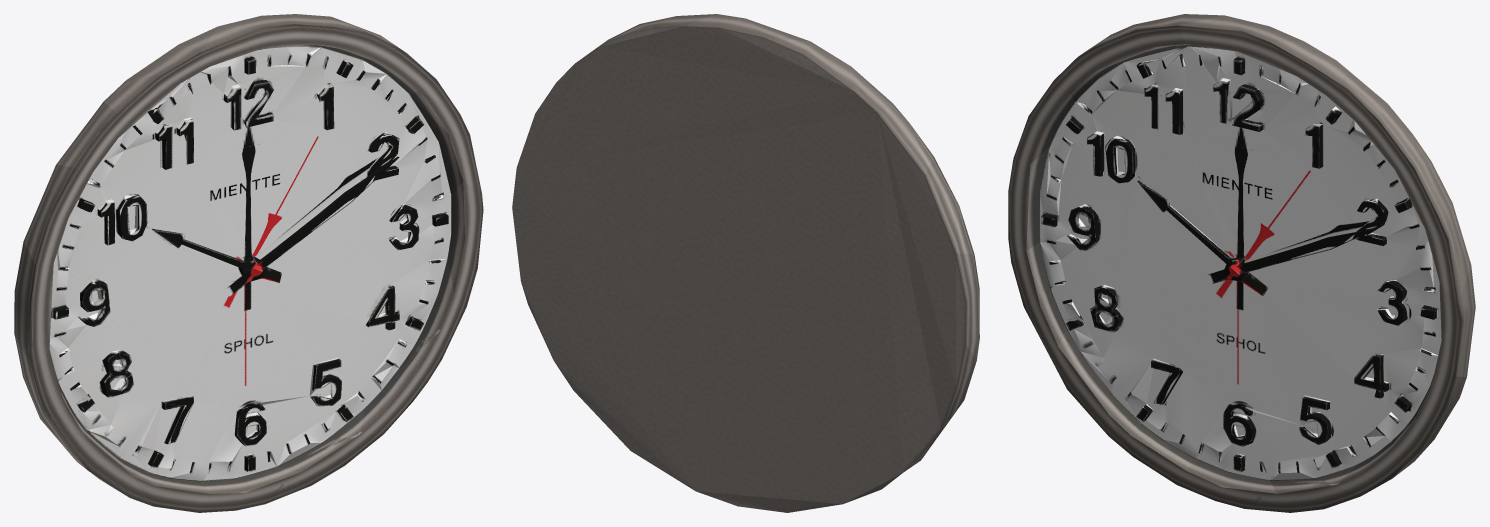
Rendered from Wall_clock.glb.
The picture shows the model from 3 angles, left to right: view 1: azimuth 30°, elevation 25°; view 2: azimuth 150°, elevation 25°; view 3: azimuth 330°, elevation 25°; orthographic projection.
Size of the model in its own units: 1.9 by 1.9 by 0.1167.
Materials: 1 (1 with a texture image).
